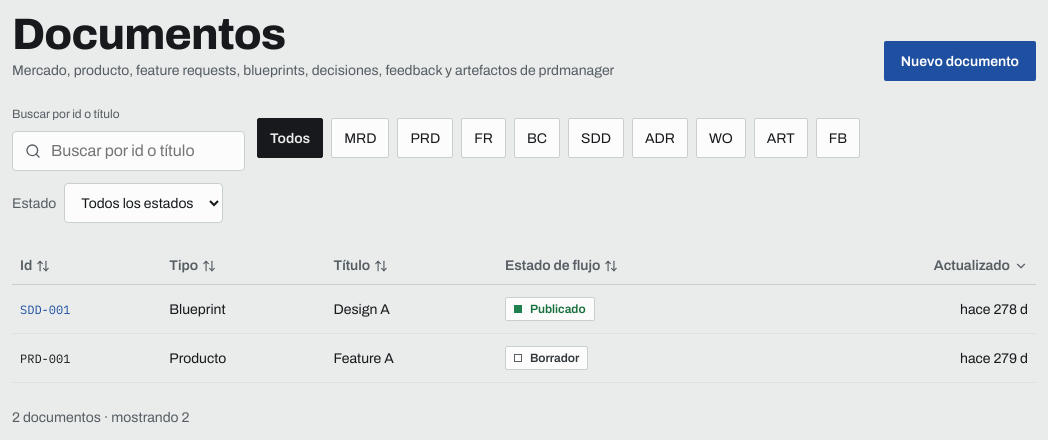
it: DocumentsList › filters the visible rows by the search box, by id or title
Check: the text "PRD-001" is shown, box [20,350,70,366]
Check: the text "SDD-001" is shown, box [20,302,70,316]
Type "design a" into the search field labelled "Buscar por id o título" at (142, 151), box [49,138,236,164]
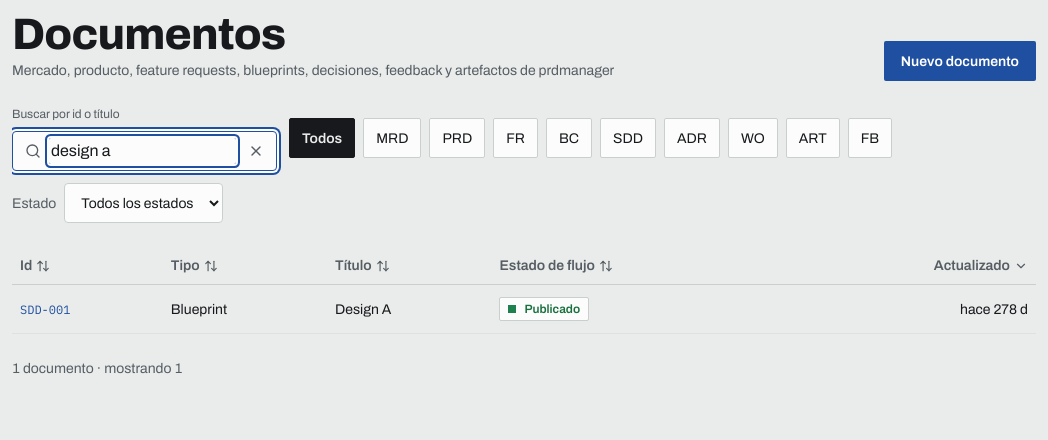
Check: the text "SDD-001" is shown, box [20,302,70,316]
Check: the link "PRD-001" is gone
